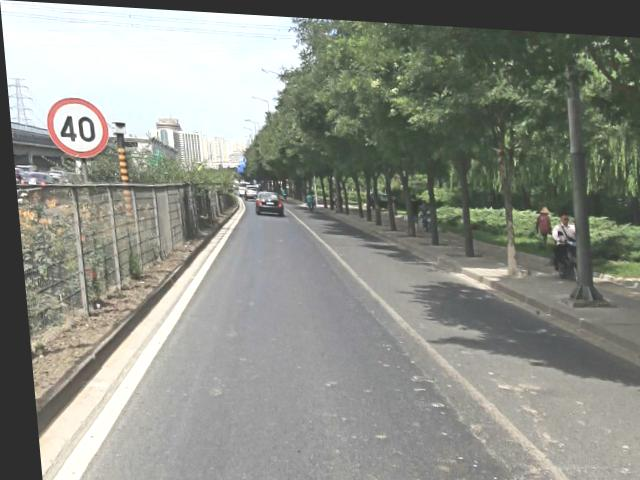limit40: (40, 93, 111, 160)
